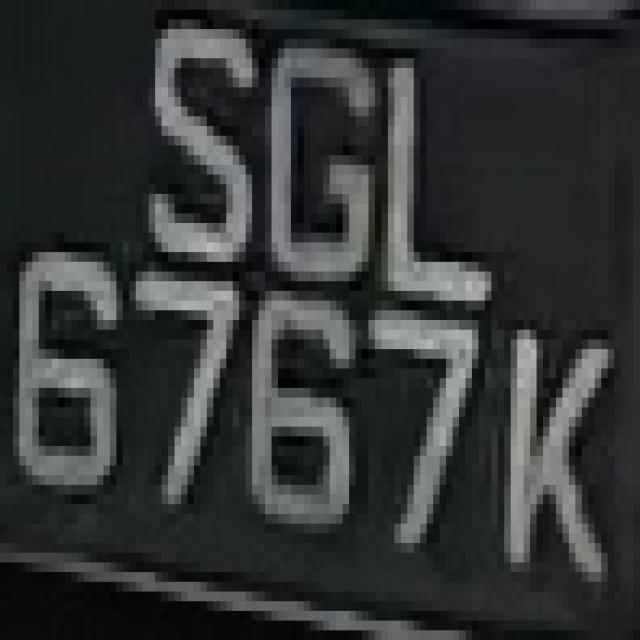6: (20, 184, 116, 524), (258, 262, 368, 543)
7: (116, 242, 246, 543), (362, 252, 485, 563)
G: (265, 29, 375, 281)
K: (484, 271, 620, 611)
L: (368, 58, 504, 340)
S: (116, 29, 252, 281)
